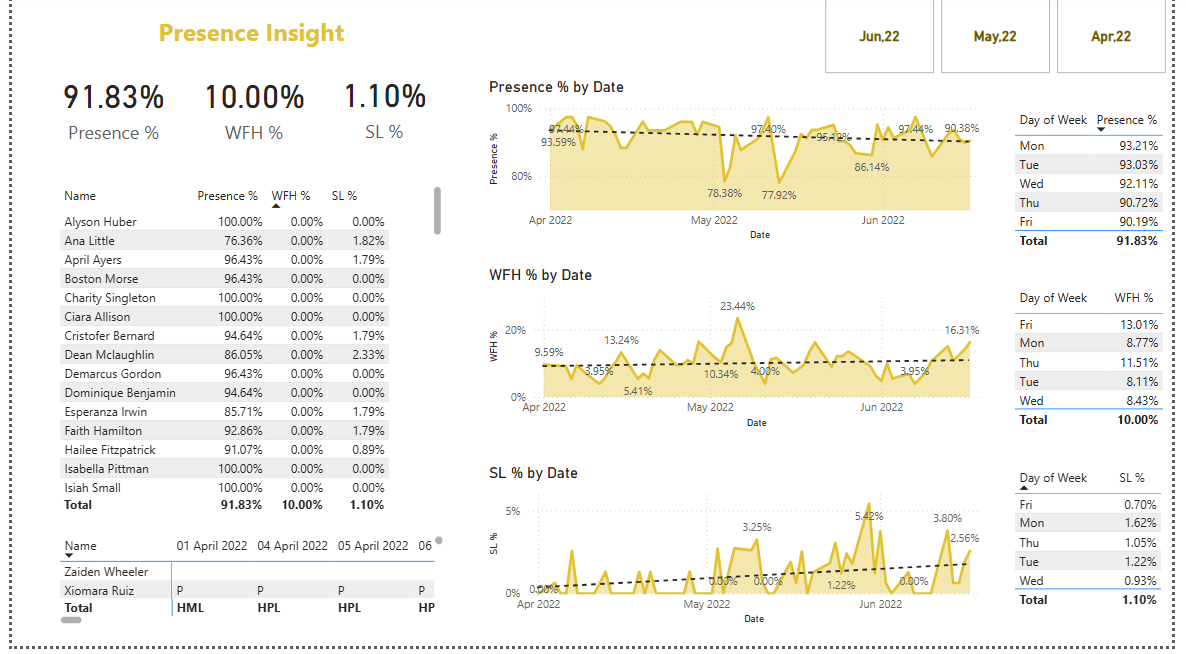

Layout of this report page (visuals, bound fields, positions):
{"tool":"powerbi","page":{"name":"Presence Overview","canvas":[1280,720],"ordinal":0},"visuals":[{"type":"card","fields":{"Values":["Measure Table.Presence %"]},"box":[32.1,60.5,160.6,122.8],"z":0},{"type":"advancedSlicerVisual","fields":{"Values":["Final Data.Month"]},"box":[892.8,0,387.6,92.8],"z":1000},{"type":"card","fields":{"Values":["Measure Table.WFH %"]},"box":[192.8,60.5,149.3,122.8],"z":2000},{"type":"card","fields":{"Values":["Measure Table.SL %"]},"box":[341.2,67.9,139.1,107.7],"z":3000},{"type":"tableEx","fields":{"Values":["Final Data.Name","Measure Table.Presence %","Measure Table.WFH %","Measure Table.SL %"]},"box":[32.1,207.9,447.9,370.4],"z":4000},{"type":"textbox","box":[47.2,18.9,432.8,58.6],"z":5000},{"type":"pivotTable","fields":{"Rows":["Final Data.Name"],"Values":["Min(Final Data.Value)"],"Columns":["Final Data.Date"]},"box":[47.2,593.4,432.8,107.7],"z":6000},{"type":"areaChart","fields":{"Category":["Final Data.Date"],"Y":["Measure Table.Presence %"]},"box":[521.8,92.8,564.9,183.9],"z":7000},{"type":"areaChart","fields":{"Category":["Final Data.Date"],"Y":["Measure Table.WFH %"]},"box":[521.8,299.8,564.9,183.9],"z":8000},{"type":"areaChart","fields":{"Category":["Final Data.Date"],"Y":["Measure Table.SL %"]},"box":[521.8,518.5,564.9,182.2],"z":9000},{"type":"tableEx","fields":{"Values":["Final Data.Day of Week","Measure Table.Presence %"]},"box":[1101.6,122.6,178.9,187.2],"z":10000},{"type":"tableEx","fields":{"Values":["Final Data.Day of Week","Measure Table.WFH %"]},"box":[1101.6,319.7,178.9,193],"z":11000},{"type":"tableEx","fields":{"Values":["Final Data.Day of Week","Measure Table.SL %"]},"box":[1101.6,518.5,178.9,177.2],"z":12000}]}

Visuals, with their boxes in screenshot pixels (x1, y1, x2, y2), scaled from the page's 1280x720 canvas onto the 1186x654 screenshot:
card - Measure Table.Presence %: [30,55,179,166]
advancedSlicerVisual - Final Data.Month: [827,0,1185,84]
card - Measure Table.WFH %: [179,55,317,166]
card - Measure Table.SL %: [316,62,445,160]
tableEx - Final Data.Name x Measure Table.Presence %: [30,189,445,525]
textbox: [44,17,445,70]
pivotTable - Final Data.Name x Min(Final Data.Value): [44,539,445,637]
areaChart - Final Data.Date x Measure Table.Presence %: [483,84,1007,251]
areaChart - Final Data.Date x Measure Table.WFH %: [483,272,1007,439]
areaChart - Final Data.Date x Measure Table.SL %: [483,471,1007,636]
tableEx - Final Data.Day of Week x Measure Table.Presence %: [1021,111,1185,281]
tableEx - Final Data.Day of Week x Measure Table.WFH %: [1021,290,1185,466]
tableEx - Final Data.Day of Week x Measure Table.SL %: [1021,471,1185,632]
